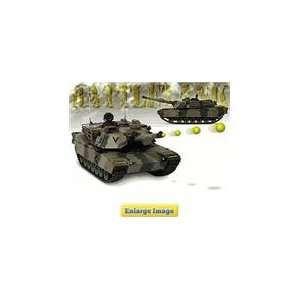Battle Tank: (69, 116, 180, 181), (142, 91, 228, 124)
